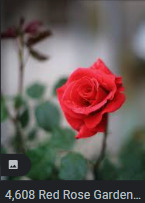RedRose: (49, 54, 126, 134)
